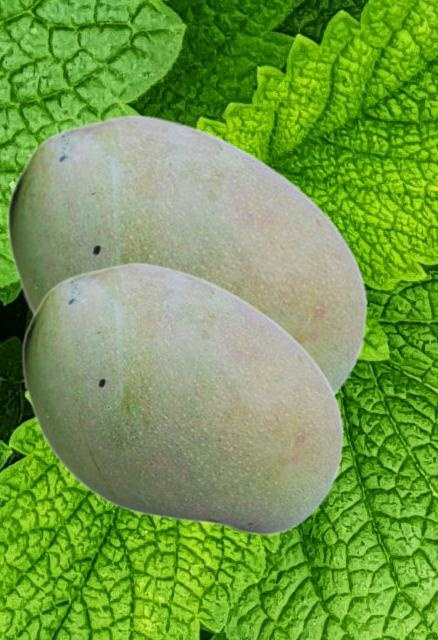green_mango: (6, 113, 367, 395), (21, 261, 343, 535)
